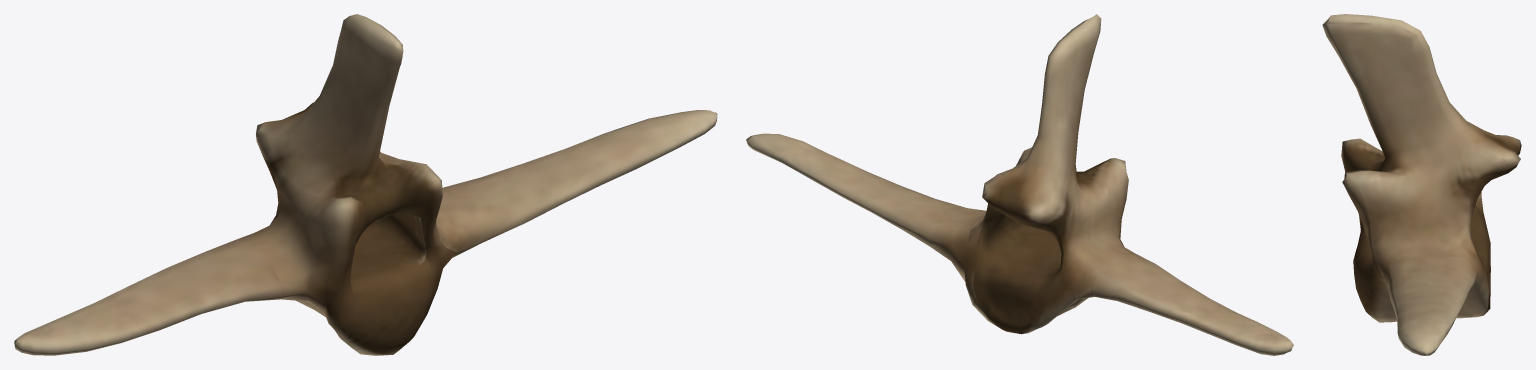
File: Lumbar_Vertebrae1.glb
3 views of the same model, side by side, from view 1: azimuth 30°, elevation 25°; view 2: azimuth 150°, elevation 25°; view 3: azimuth 270°, elevation 25° (orthographic). The views are drawn at different scales.
Visible parts, largest first — view 1: Horse_low:SelSet_60Merged_L_Frt_Sesamoid_Bones_1; view 2: Horse_low:SelSet_60Merged_L_Frt_Sesamoid_Bones_1; view 3: Horse_low:SelSet_60Merged_L_Frt_Sesamoid_Bones_1.
Part boxes in pixels (bbox=[...]): Horse_low:SelSet_60Merged_L_Frt_Sesamoid_Bones_1: bbox=[14, 14, 717, 355]; Horse_low:SelSet_60Merged_L_Frt_Sesamoid_Bones_1: bbox=[746, 14, 1293, 355]; Horse_low:SelSet_60Merged_L_Frt_Sesamoid_Bones_1: bbox=[1322, 14, 1521, 355].
Size of the model in its own units: 0.2869 by 0.1379 by 0.0831.
1 material, 1 textured.
